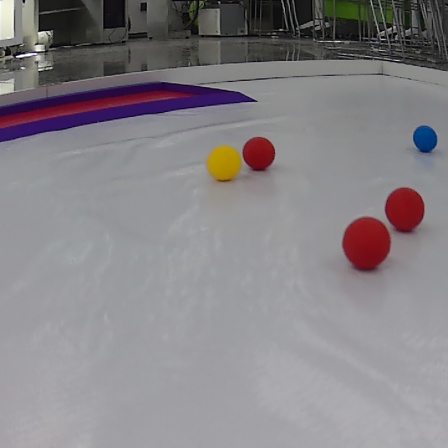blue: (408, 123, 442, 159)
red: (340, 216, 390, 269), (384, 186, 425, 232), (242, 137, 274, 171)
red_aim: (0, 78, 257, 137)
yellow: (206, 144, 241, 181)
